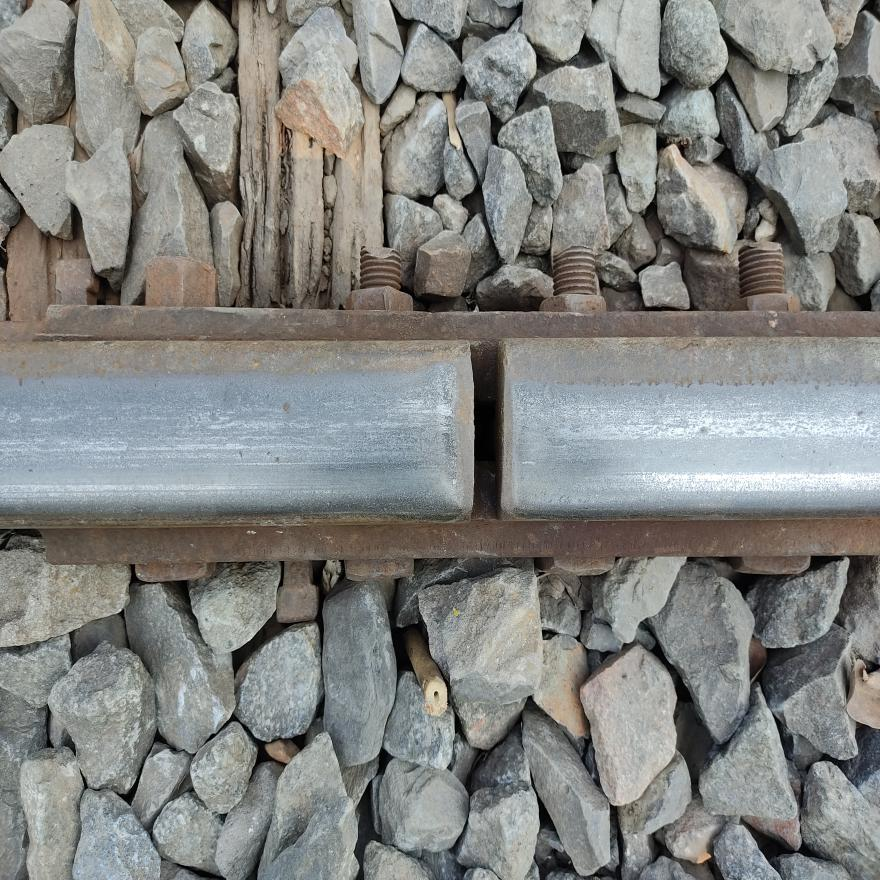railway-gap: (391, 309, 579, 558)
